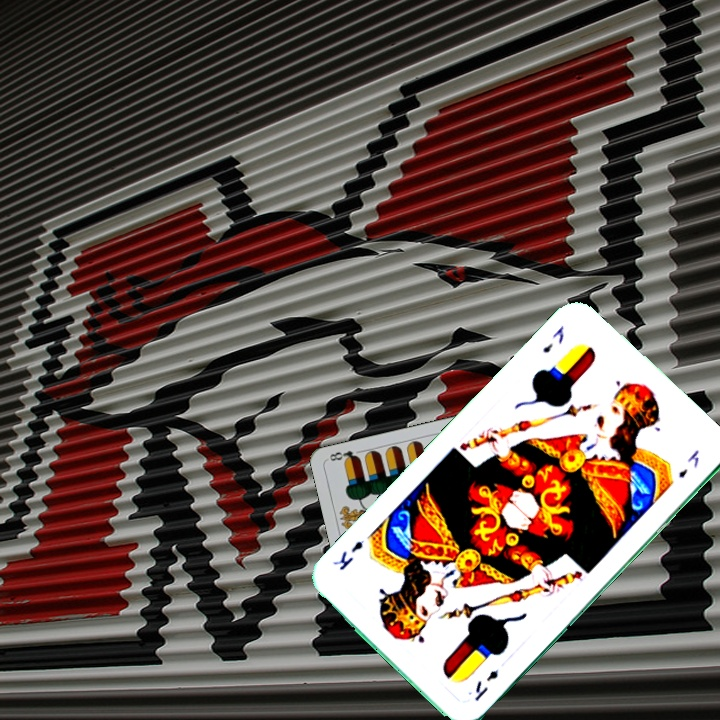EK: (470, 666, 501, 704), (538, 322, 567, 356)
